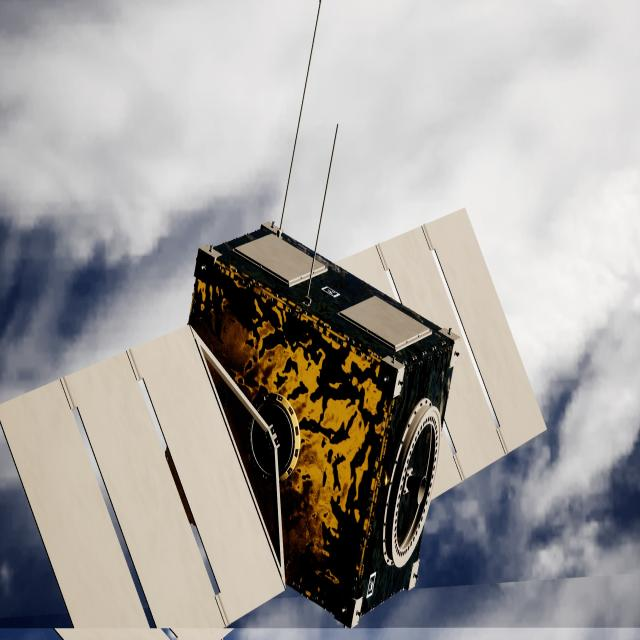medium_debris: (0, 209, 546, 640)
